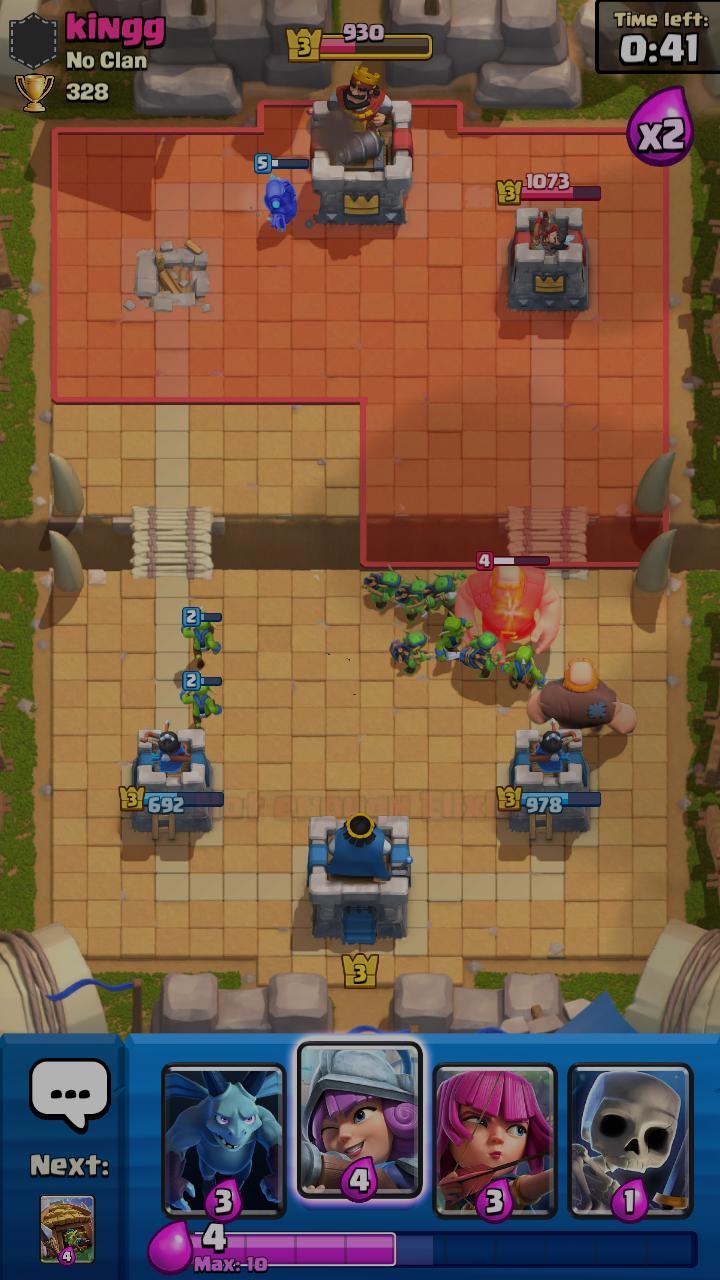ally: (526, 658, 638, 735), (254, 153, 309, 232), (408, 571, 468, 615), (181, 607, 222, 669), (180, 671, 222, 728), (361, 564, 409, 610), (389, 629, 434, 675), (501, 645, 546, 690), (460, 631, 502, 679), (434, 611, 473, 662), (395, 572, 433, 623)
enemy: (455, 551, 561, 664)
